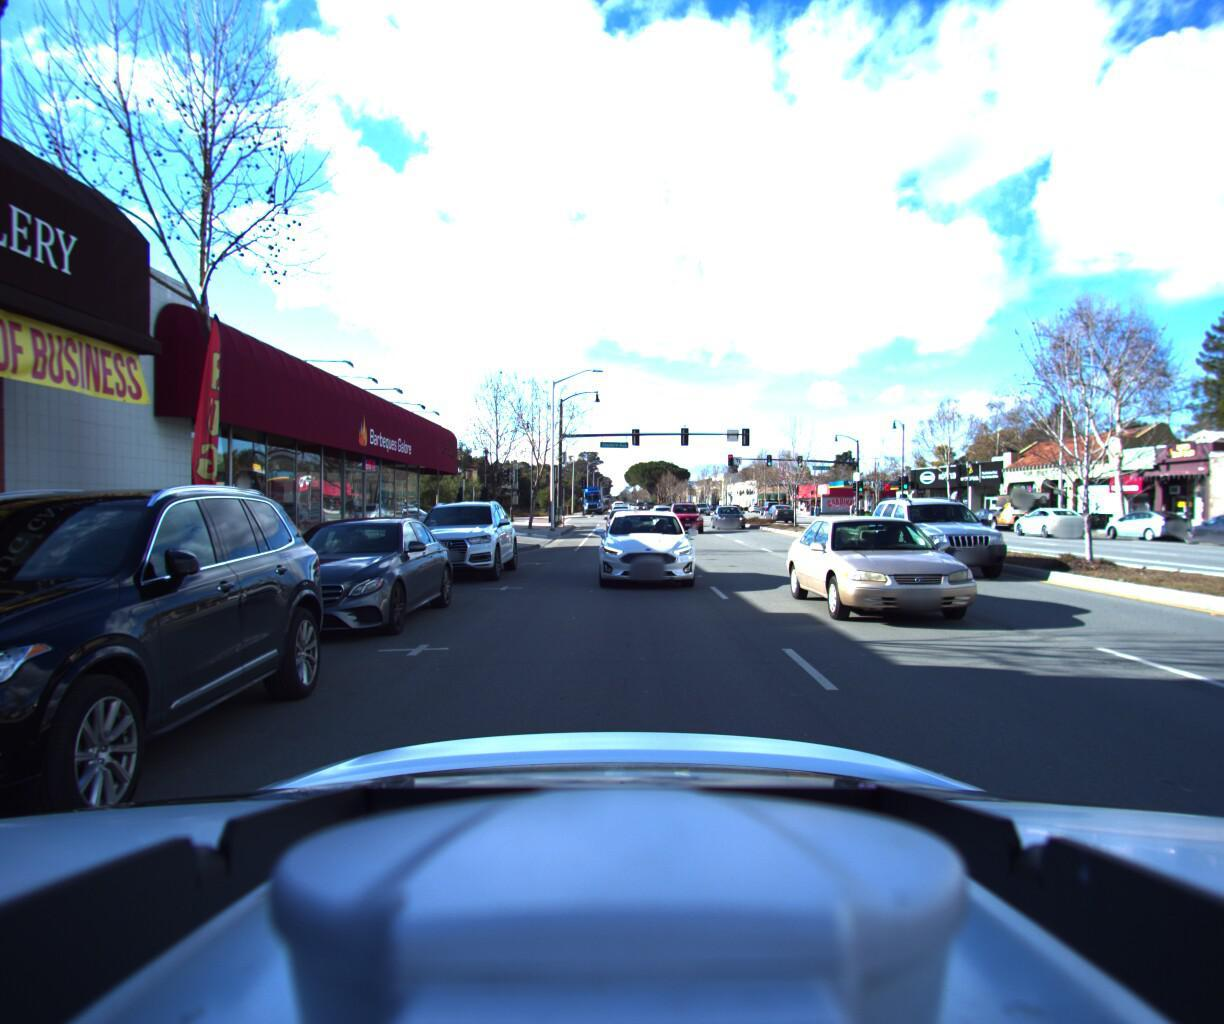car: (0, 455, 336, 949), (791, 498, 1056, 647), (221, 517, 458, 655), (878, 495, 1058, 592), (395, 502, 519, 589), (596, 508, 699, 594), (351, 504, 456, 538), (987, 485, 1058, 534), (1097, 511, 1195, 544), (1001, 509, 1085, 539), (1175, 516, 1224, 552), (666, 503, 710, 536), (710, 502, 752, 531), (762, 505, 799, 524)
